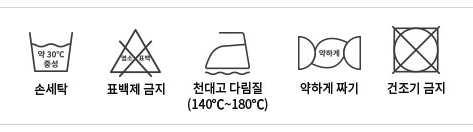KR_gentle_wring: (293, 30, 365, 74)
KR_hand_wash_30_neutral: (27, 27, 75, 77)
KR_no_chlorine_bleach: (104, 27, 166, 77)
KR_no_tumble_dry: (387, 22, 444, 78)
